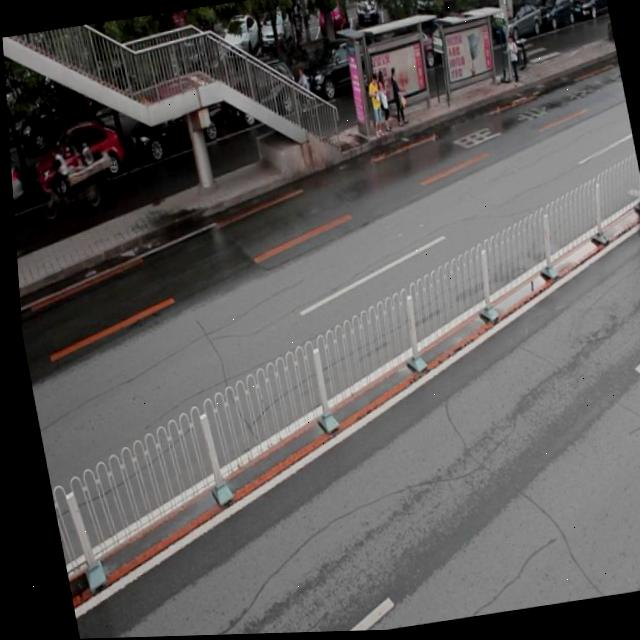car: (25, 115, 128, 200), (123, 83, 225, 163), (295, 35, 379, 105), (220, 60, 302, 131), (8, 149, 24, 219)
